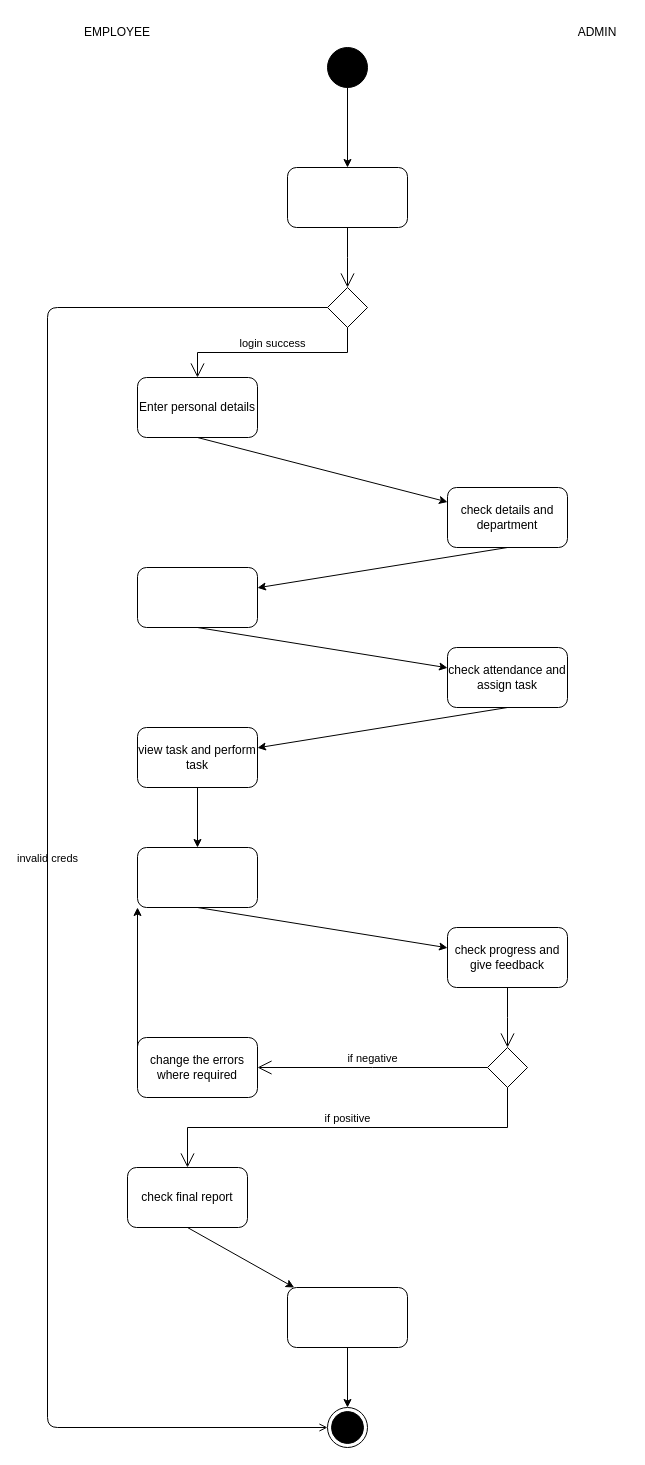
The diagram is 645 pixels wide and 1465 high, and some of its shapes have lost their labels. Each missing label, with the centre of its shape:
"login" belongs at (347,197).
"logout" belongs at (347,1317).
"Mark attendance" belongs at (197,597).
"share the report" belongs at (197,877).
